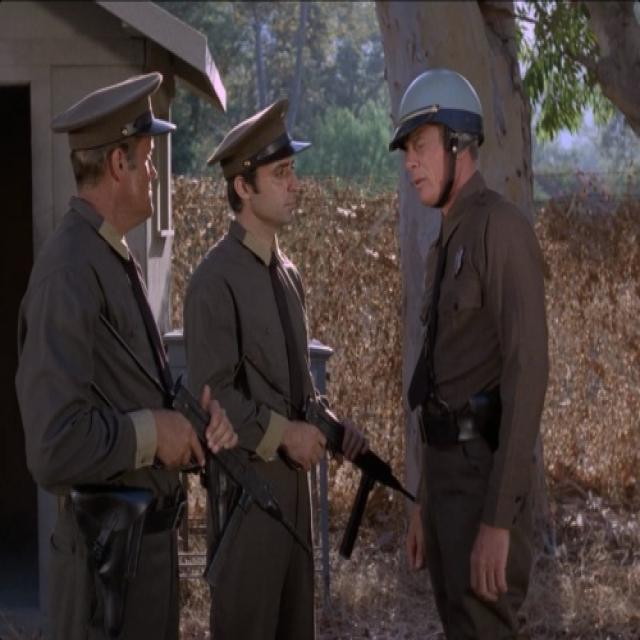rifle: (96, 311, 323, 587), (298, 396, 419, 569)
